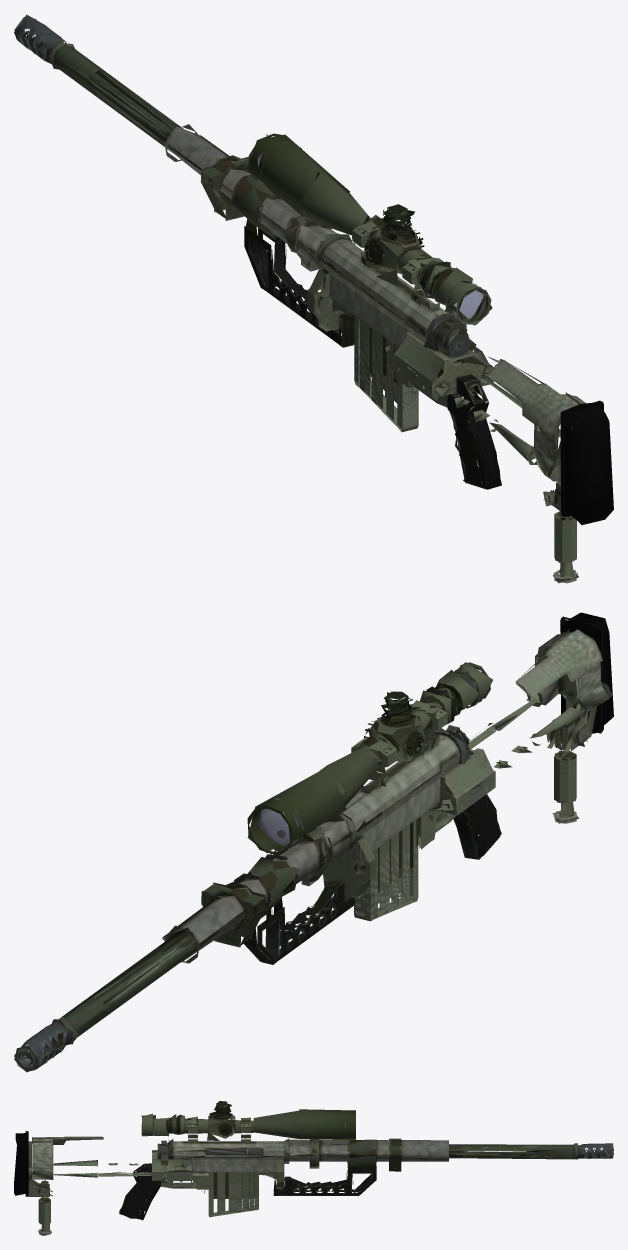
File: arma_tp.glb
The picture shows the model from 3 angles, top to bottom: view 1: azimuth 30°, elevation 25°; view 2: azimuth 150°, elevation 25°; view 3: azimuth 270°, elevation 25°; orthographic projection. The views are drawn at different scales.
Visible parts, largest first — view 1: cuerpo, carg; view 2: cuerpo, carg; view 3: cuerpo, carg, cerrojo.
Boxes of the visible parts, x1,y1,x2,y2 form: cuerpo: (14,14,613,583); carg: (354,291,418,432); cuerpo: (14,612,613,1072); carg: (354,791,418,921); cuerpo: (14,1101,613,1235); carg: (208,1172,258,1217); cerrojo: (103,1144,208,1182).
Bounding box in the file's own units: 0.1254 × 0.3461 × 1.45.
3 materials, 3 textured.
